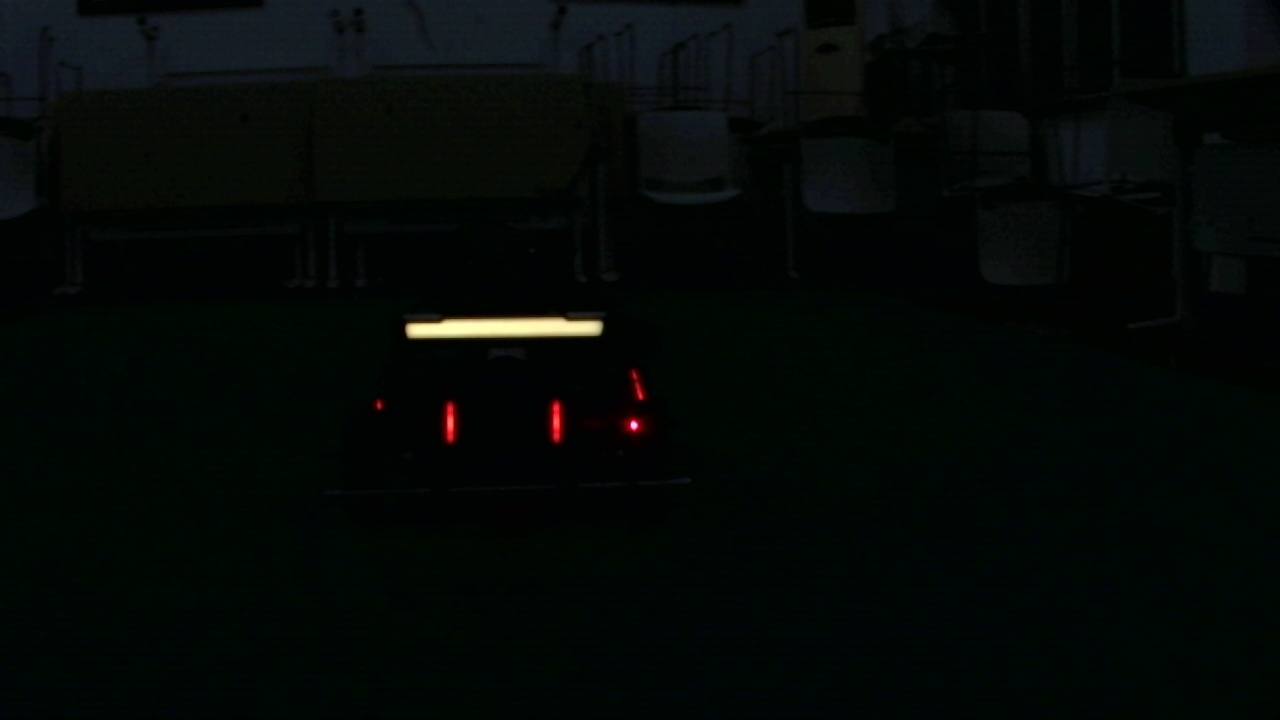lamp: (546, 402, 565, 447), (441, 399, 457, 443)
pair1: (446, 405, 564, 440)
